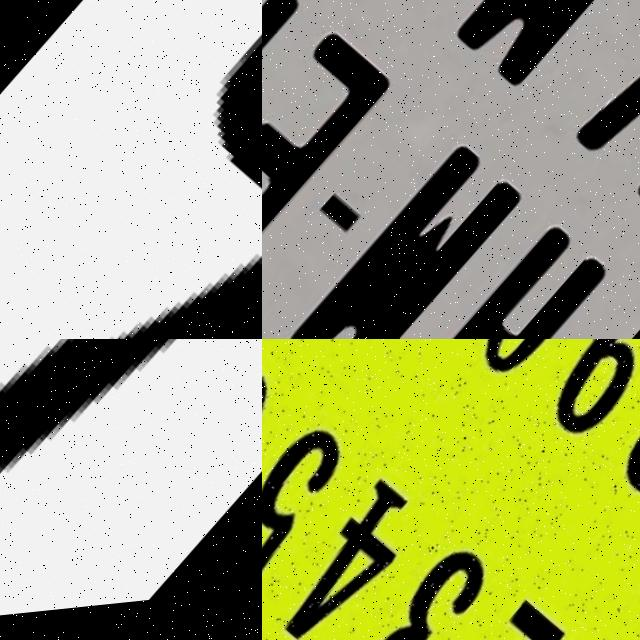0: (430, 339, 640, 420)
2: (346, 581, 601, 640)
3: (311, 529, 515, 640)
4: (262, 458, 452, 640), (537, 0, 640, 193)
5: (262, 398, 379, 640)
6: (262, 339, 320, 582)
8: (573, 339, 640, 543)
9: (500, 339, 640, 484)
E: (262, 28, 398, 297)
H: (363, 223, 609, 339)
K: (0, 339, 262, 640)
M: (273, 144, 523, 339), (441, 0, 640, 108)
